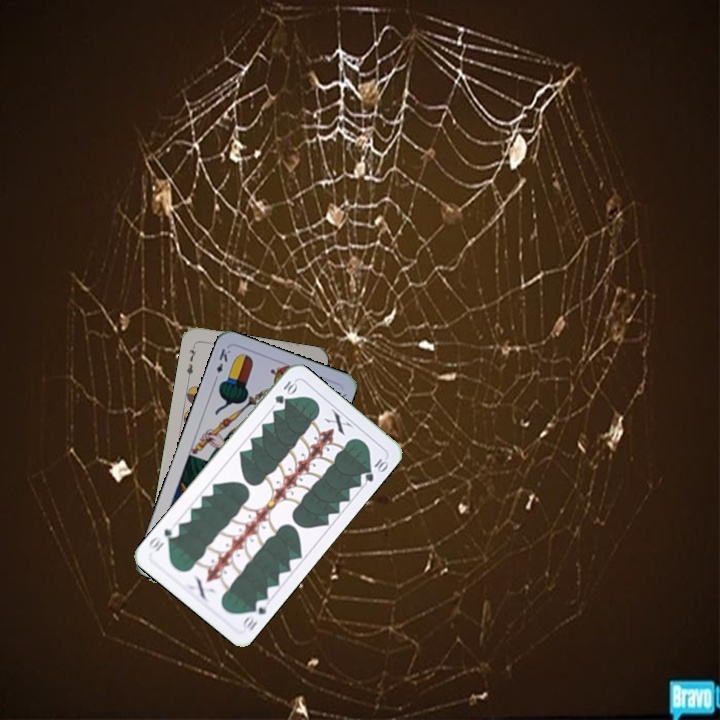E7: (182, 341, 199, 381)
EK: (210, 344, 233, 384)
G10: (237, 595, 271, 634), (271, 377, 300, 407)
